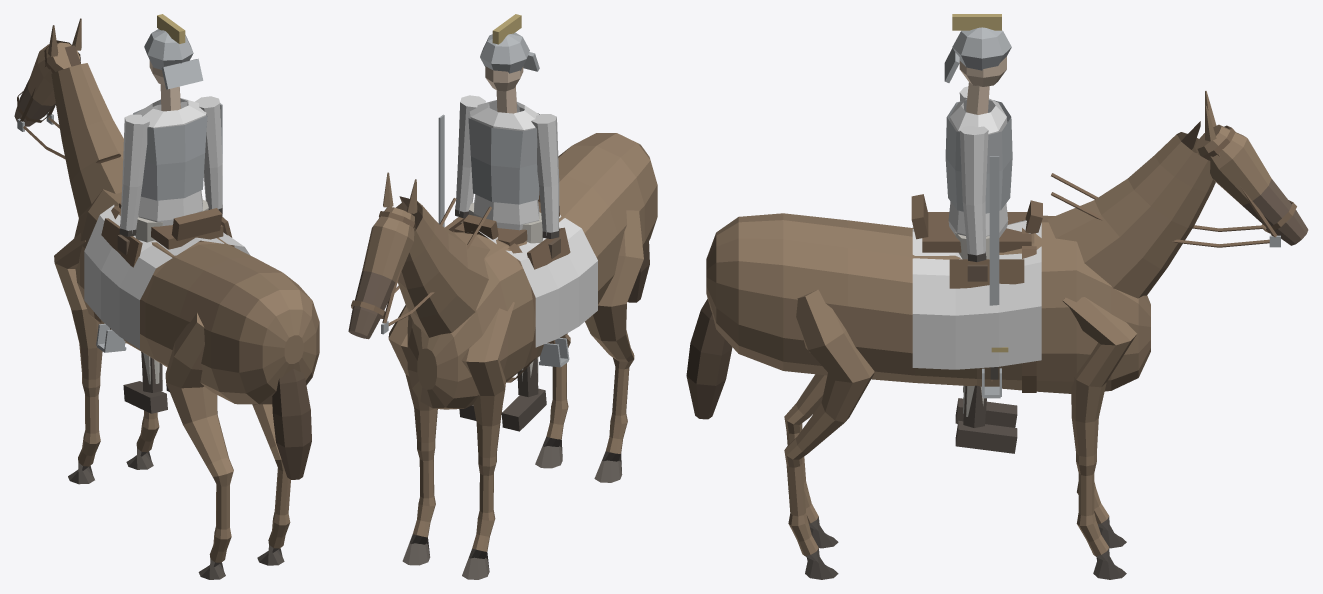
The model's file is cavalry_hx_em_cuirassier_lod0.glb.
3 views of the same model, side by side, from view 1: azimuth 30°, elevation 25°; view 2: azimuth 150°, elevation 25°; view 3: azimuth 270°, elevation 25° (orthographic). The views are drawn at different scales.
Visible parts, largest first — view 1: hx_em_cuirassier_lod0; view 2: hx_em_cuirassier_lod0; view 3: hx_em_cuirassier_lod0.
Boxes of the visible parts, x1,y1,x2,y2 form: hx_em_cuirassier_lod0: [14, 14, 319, 579]; hx_em_cuirassier_lod0: [348, 14, 657, 579]; hx_em_cuirassier_lod0: [686, 14, 1308, 579].
Bounding box in the file's own units: 0.6767 × 2.41 × 2.5.
